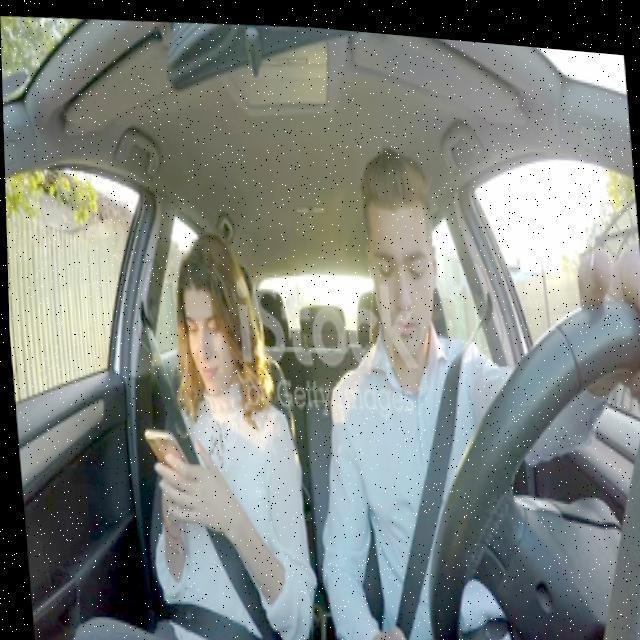PhoneCall: (141, 415, 186, 477)
